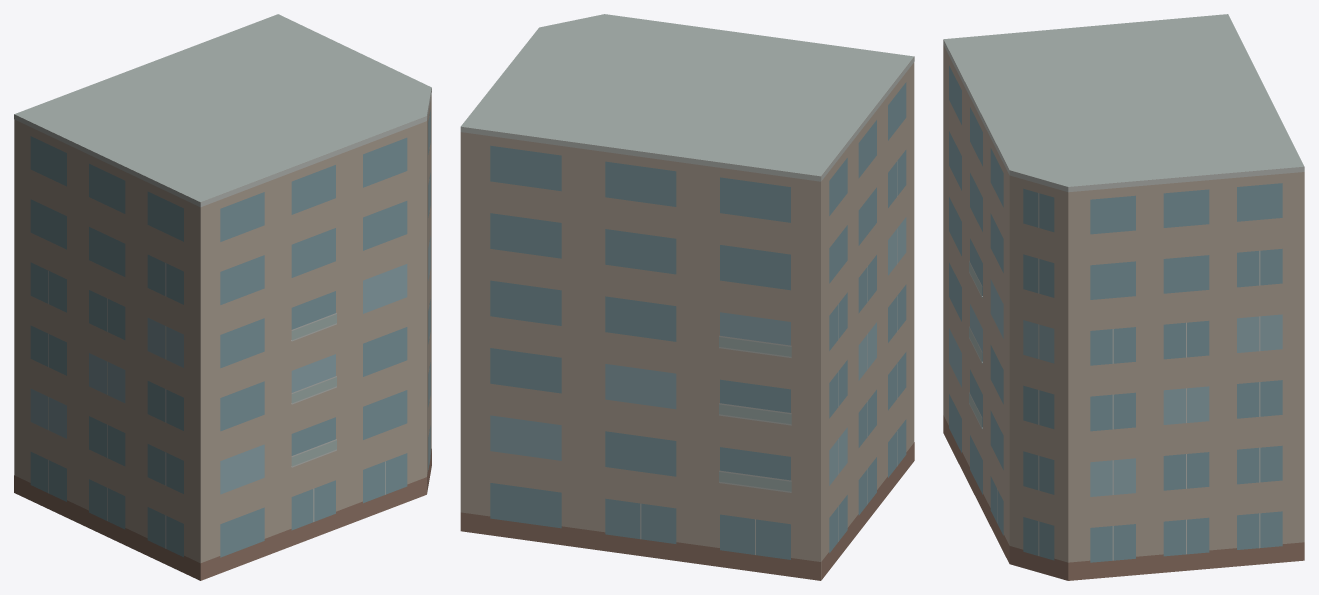
Rendered from survey-upis-32697693.glb.
The picture shows the model from 3 angles, left to right: view 1: azimuth 30°, elevation 25°; view 2: azimuth 150°, elevation 25°; view 3: azimuth 270°, elevation 25°; orthographic projection. The views are drawn at different scales.
Visible parts, largest first — view 1: survey-upis-32697693.tmp; view 2: survey-upis-32697693.tmp; view 3: survey-upis-32697693.tmp.
Part boxes in pixels (x1=…): survey-upis-32697693.tmp: x1=14, y1=14, x2=431, y2=580; survey-upis-32697693.tmp: x1=460, y1=14, x2=914, y2=580; survey-upis-32697693.tmp: x1=943, y1=14, x2=1304, y2=580.
Bounding box in the file's own units: 17.24 × 18.3 × 15.21.
